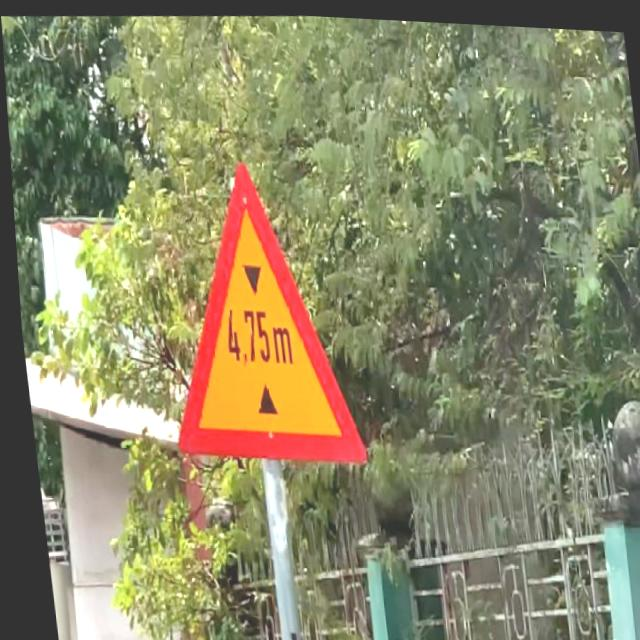Chieu cao an toan: (137, 144, 373, 493)
